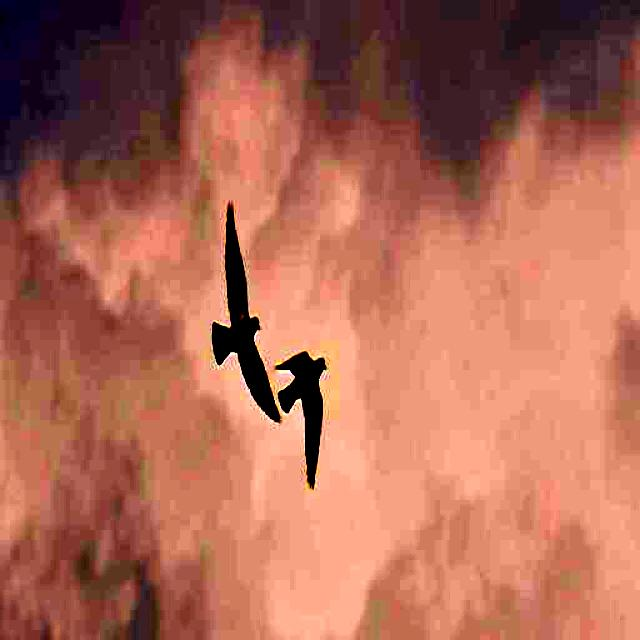airplane: (199, 201, 284, 431), (279, 309, 339, 519)
